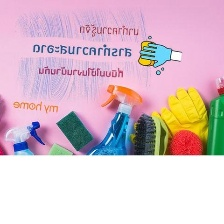cleaning_solution: (69, 82, 147, 203), (3, 119, 69, 221), (202, 74, 224, 195)
